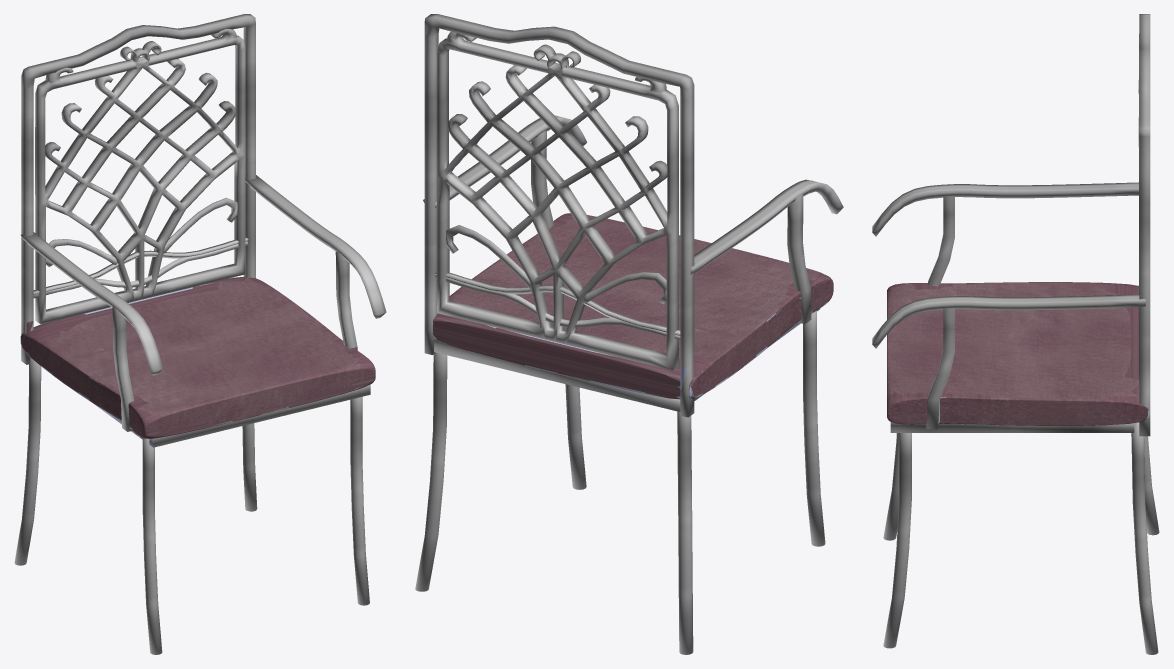
File: chair4.glb
3 views of the same model, side by side, from view 1: azimuth 30°, elevation 25°; view 2: azimuth 150°, elevation 25°; view 3: azimuth 270°, elevation 25° (orthographic). The views are drawn at different scales.
Visible parts, largest first — view 1: latticeChair; view 2: latticeChair; view 3: latticeChair.
Part boxes in pixels (left/top/right/bottom): latticeChair: left=14, top=14, right=386, bottom=654; latticeChair: left=415, top=14, right=843, bottom=654; latticeChair: left=872, top=14, right=1159, bottom=654.
Bounding box in the file's own units: 0.9197 × 1.87 × 0.9041.
Materials: 3 (3 with a texture image).
